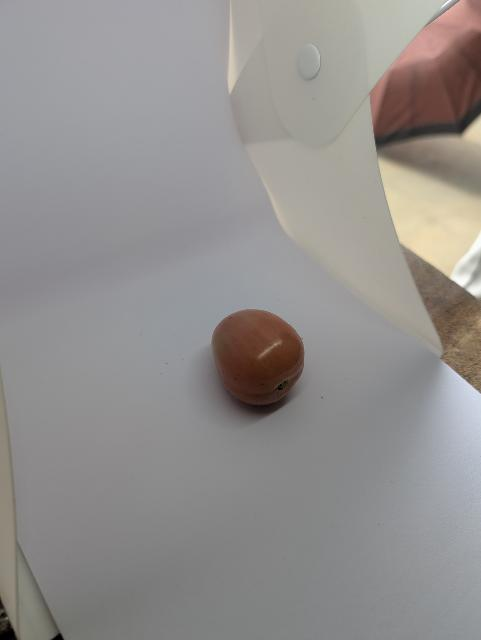red: (207, 304, 317, 416)
